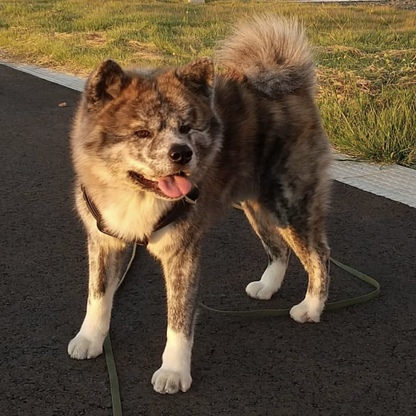akita: (61, 9, 342, 397)
